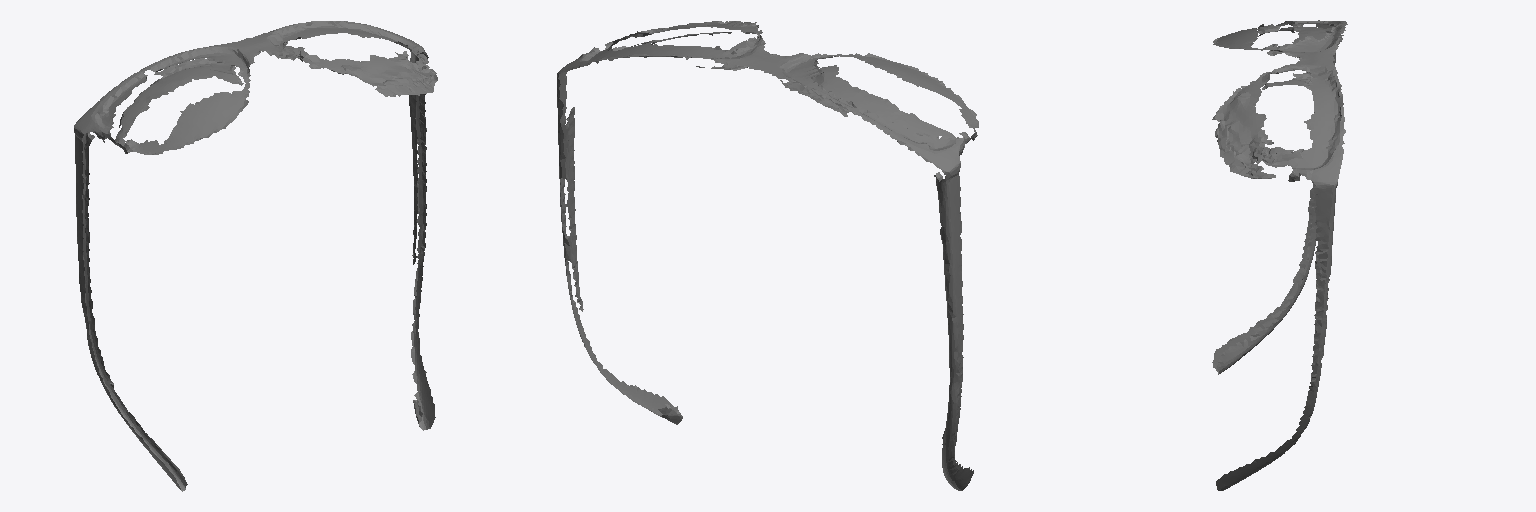
The robot description file, URDF, robot "object":
<?xml version="1.0"?>
<robot name="object">
  <link name="object">
    <visual>
      <origin xyz="0 0 0"/>
      <geometry>
        <mesh
          filename="../../mesh/oakink_virtual/eyeglasses17.stl" />
      </geometry>
      <material name="mat">
        <color rgba="0.5 0.5 0.5 1"/>
      </material>
    </visual>

    <collision>
      <origin xyz="0 0 0"/>
      <geometry>
        <mesh
          filename="../../mesh/oakink_virtual/eyeglasses17.stl" />
      </geometry>
    </collision>
  </link>
</robot>

--- Facts derived from the render (not from the file) ---
The picture shows the robot from 3 angles, left to right: view 1: azimuth 30°, elevation 25°; view 2: azimuth 150°, elevation 25°; view 3: azimuth 270°, elevation 25°; orthographic projection.
Robot: object — 1 links, 0 joints (none); root link object; default pose: all joints at 0.
Links seen in each view (by area): view 1: object; view 2: object; view 3: object.
Link boxes in pixels (bbox=[...]): object: bbox=[74, 21, 437, 491]; object: bbox=[557, 21, 978, 490]; object: bbox=[1212, 20, 1347, 490].
Bounding box of the posed robot: 0.1392 × 0.0481 × 0.1472 m (x, y, z).
1 mesh visuals loaded from 1 distinct referenced files (1 binary STL).